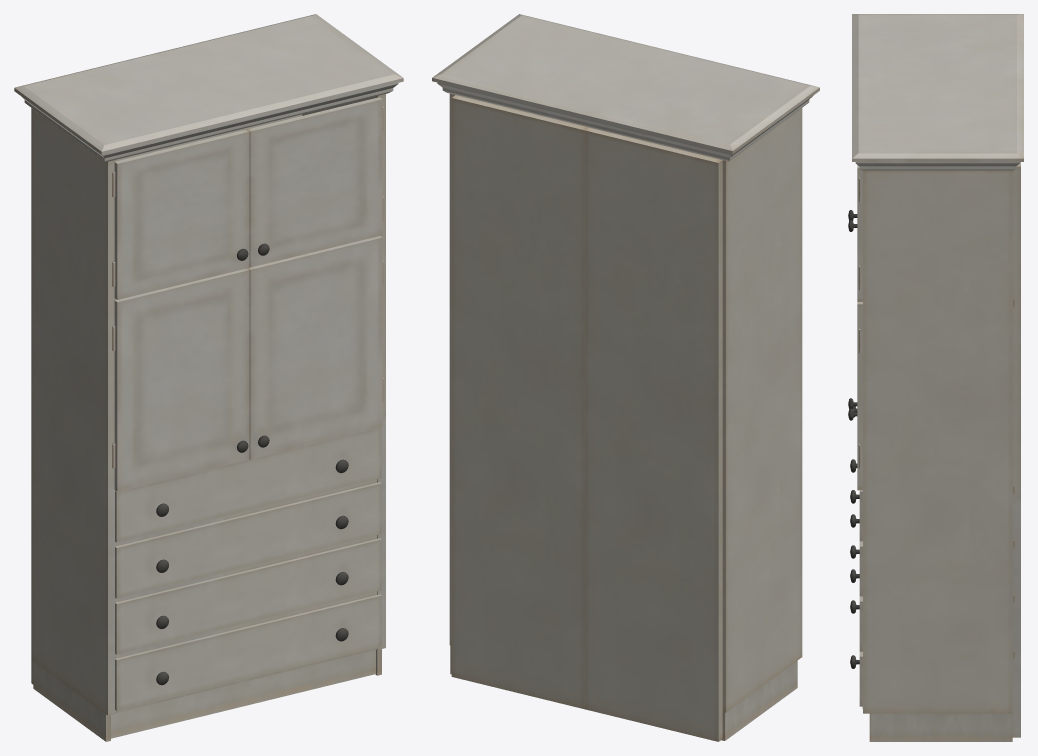
The model's file is ClothCloset_C.FBX.
3 views of the same model, side by side, from view 1: azimuth 30°, elevation 25°; view 2: azimuth 150°, elevation 25°; view 3: azimuth 270°, elevation 25° (orthographic).
Parts seen in each view (by area): view 1: ClothCloset_C, Closet_Door_Down_R, Closet_Door_Down_L, Closet_Door_Up_R, Closet_Door_Up_L, Drawer_C, Drawer_B, Drawer_D, Drawer_A; view 2: ClothCloset_C; view 3: ClothCloset_C, Closet_Door_Down_L, Closet_Door_Up_L, Drawer_C, Drawer_D, Drawer_B, Drawer_A.
Part boxes in pixels (x1,y1,x2,y2): ClothCloset_C: [14, 14, 403, 741]; Closet_Door_Down_R: [112, 268, 249, 491]; Closet_Door_Down_L: [248, 236, 384, 459]; Closet_Door_Up_R: [112, 129, 249, 299]; Closet_Door_Up_L: [247, 97, 384, 267]; Drawer_C: [115, 538, 381, 654]; Drawer_B: [115, 482, 381, 598]; Drawer_D: [115, 594, 381, 710]; Drawer_A: [115, 427, 381, 542]; ClothCloset_C: [432, 14, 819, 741]; ClothCloset_C: [852, 14, 1023, 741]; Closet_Door_Down_L: [848, 302, 862, 490]; Closet_Door_Up_L: [848, 165, 862, 301]; Drawer_C: [850, 514, 862, 651]; Drawer_D: [850, 569, 862, 706]; Drawer_B: [850, 459, 862, 596]; Drawer_A: [850, 406, 862, 541].
Size of the model in its own units: 114 by 218 by 58.51.
